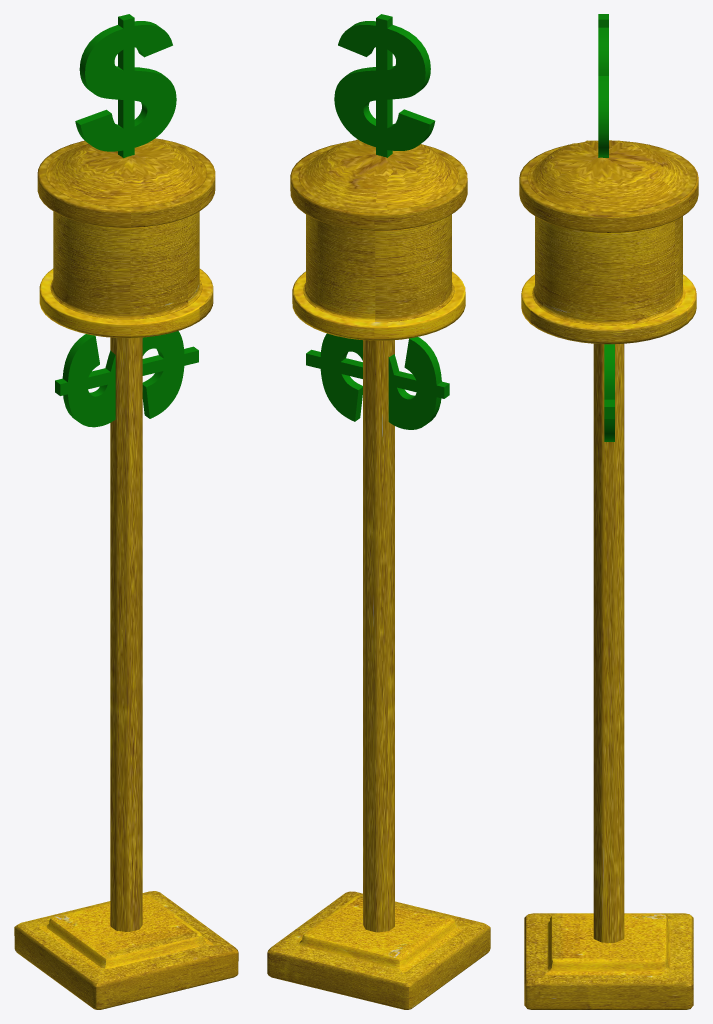
The model's file is kawaiine_lampadaire.fbx.
3 renders of one model, left to right at view 1: azimuth 30°, elevation 25°; view 2: azimuth 150°, elevation 25°; view 3: azimuth 270°, elevation 25°, orthographic.
Parts seen in each view (by area): view 1: lampe, poteau, pied, dollar_02, dollar_01; view 2: lampe, poteau, pied, dollar_02, dollar_01; view 3: lampe, poteau, pied, dollar_02, dollar_01.
Boxes of the visible parts, x1,y1,x2,y2 form: lampe: (37,138,215,338); poteau: (110,337,142,931); pied: (14,891,238,1009); dollar_02: (75,14,176,158); dollar_01: (55,331,198,427); lampe: (290,139,467,340); poteau: (363,340,394,932); pied: (267,891,490,1009); dollar_02: (334,14,435,157); dollar_01: (306,333,449,429); lampe: (519,140,698,344); poteau: (593,344,624,942); pied: (524,913,693,1009); dollar_02: (598,14,608,157); dollar_01: (604,344,614,441).
Size of the model in its own units: 42 by 247 by 42.
Materials: 2 (2 with a texture image).
